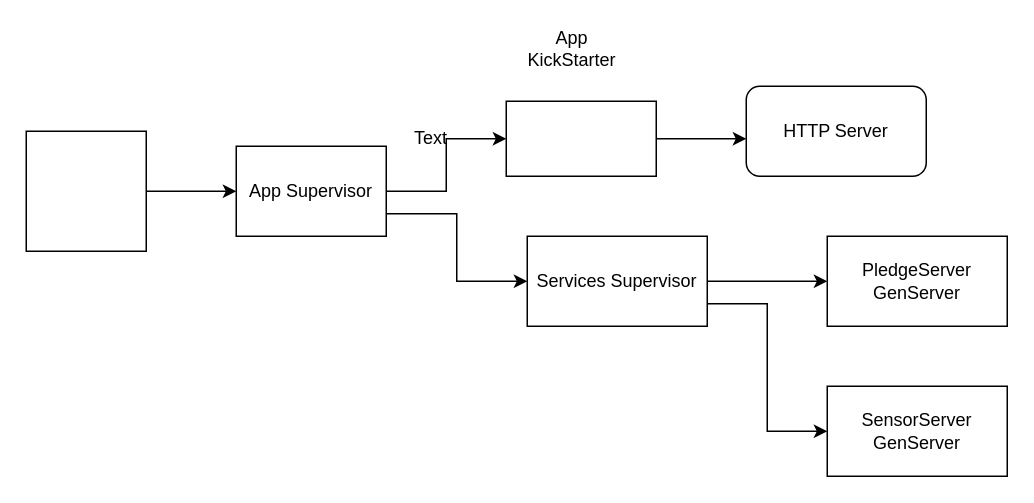
Some shapes in this 1034 by 503 pixel diagram are drawn without their labels. Here are the shapes that lost their labels. From the top down, the centre of each, then its label:
At [580,138]: "GenServer".
At [85,190]: "Application Start".
